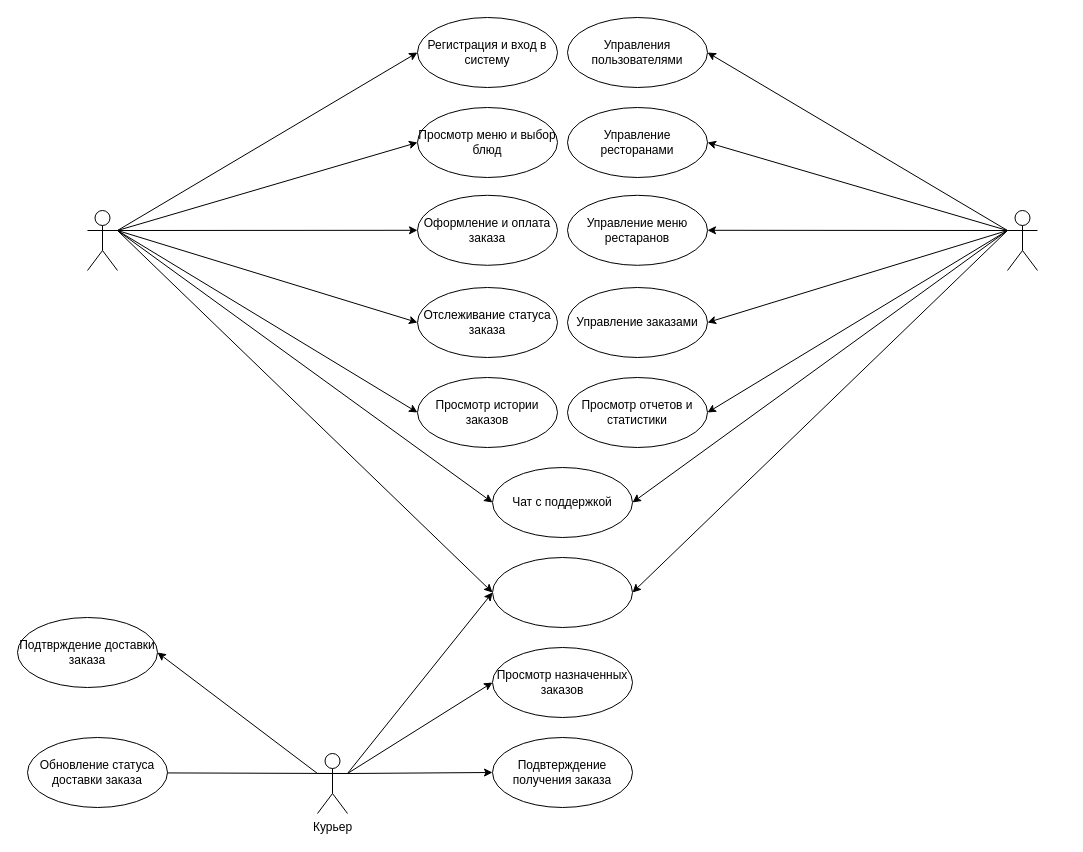
Some shapes in this 1083 by 852 pixel diagram are drawn without their labels. The box of each missing label's shape, as (x1, y1, x2, y2) in pixels:
Администратор: (1006, 210, 1038, 270)
Пользователь: (86, 210, 118, 270)
Уведомление о статусе заказа: (492, 556, 632, 628)
